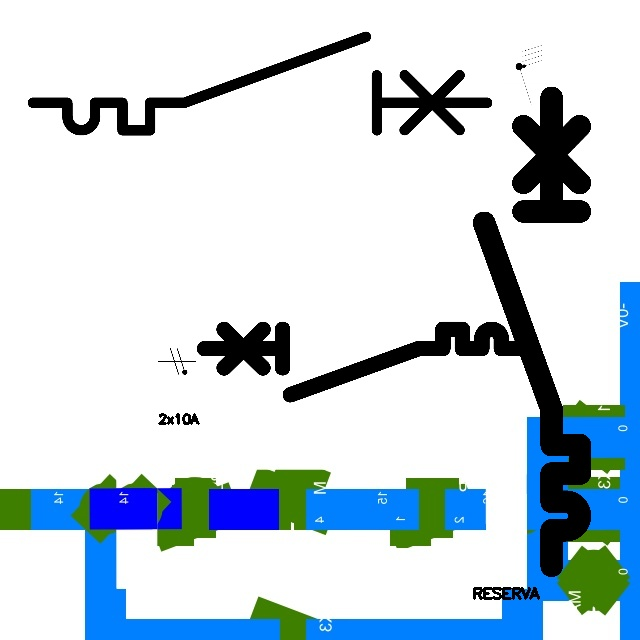interruptor_termomagnetico: (472, 85, 592, 577), (21, 25, 499, 142), (196, 321, 533, 403)
